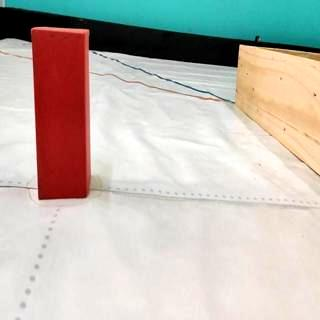redbox: (30, 24, 94, 200)
